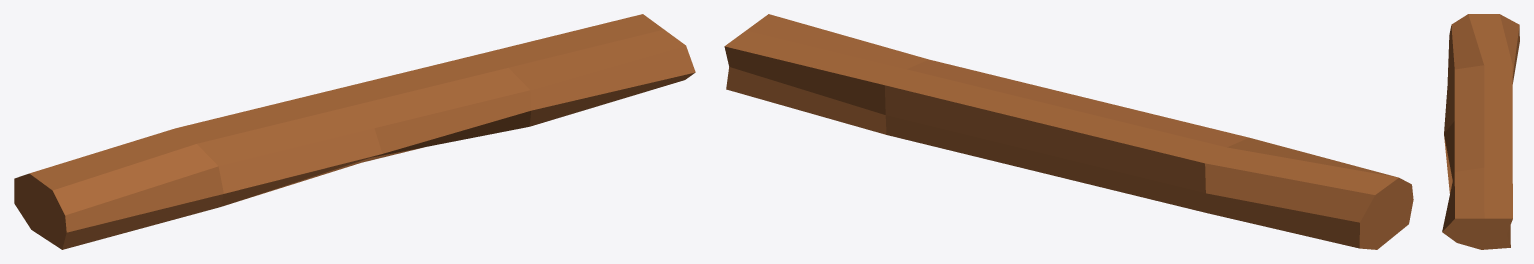
File: Log 2.fbx
3 views of the same model, side by side, from view 1: azimuth 30°, elevation 25°; view 2: azimuth 150°, elevation 25°; view 3: azimuth 270°, elevation 25° (orthographic). The views are drawn at different scales.
Visible parts, largest first — view 1: Log.001; view 2: Log.001; view 3: Log.001.
Boxes of the visible parts, box(x1,y1,x2,y2) form: Log.001: box(14, 14, 695, 249); Log.001: box(724, 14, 1413, 249); Log.001: box(1442, 14, 1519, 249).
Size of the model in its own units: 414 by 35.98 by 66.43.
